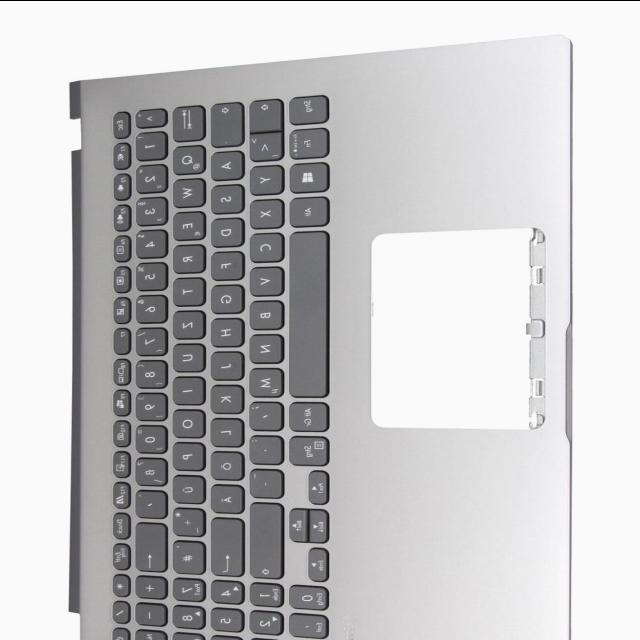0: (132, 423, 164, 451)
1: (132, 129, 164, 159)
2: (133, 162, 165, 191)
3: (133, 195, 165, 224)
4: (133, 228, 165, 256)
5: (133, 261, 165, 289)
6: (133, 293, 165, 322)
7: (133, 326, 164, 354)
8: (132, 358, 164, 387)
9: (132, 391, 164, 419)
a: (207, 149, 241, 179)
accent: (133, 488, 165, 516)
ae: (207, 482, 242, 512)
alt-left: (287, 195, 327, 226)
altgr-right: (286, 400, 326, 430)
b: (246, 299, 281, 329)
c: (246, 230, 281, 261)
caret: (132, 107, 164, 127)
comma: (246, 399, 280, 429)
d: (207, 216, 242, 246)
del: (132, 520, 165, 570)
e: (170, 210, 203, 239)
enter: (207, 515, 243, 575)
f: (207, 249, 242, 278)
g: (207, 282, 242, 312)
h: (207, 316, 242, 346)
hash: (169, 539, 203, 573)
i: (170, 375, 202, 403)
j: (206, 349, 242, 379)
k: (206, 382, 241, 412)
keyboard: (90, 84, 340, 640)
l: (206, 416, 241, 445)
less: (246, 130, 281, 160)
m: (246, 366, 282, 396)
minus: (247, 467, 281, 497)
n: (246, 332, 281, 363)
o: (170, 407, 203, 436)
oe: (207, 450, 241, 479)
p: (170, 441, 202, 469)
plus: (169, 506, 203, 535)
point: (247, 433, 281, 463)
q: (169, 143, 203, 173)
r: (170, 243, 202, 272)
s: (208, 182, 242, 212)
shift-left: (246, 96, 281, 130)
shift-lock: (207, 100, 242, 146)
shift-right: (246, 500, 282, 576)
space: (285, 230, 327, 397)
ss: (132, 456, 164, 484)
strg-left: (286, 92, 326, 123)
strg-right: (287, 433, 327, 465)
t: (169, 276, 203, 304)
tab: (169, 104, 203, 140)
u: (169, 341, 203, 371)
ue: (170, 473, 203, 501)
v: (246, 264, 282, 294)
w: (169, 176, 203, 206)
x: (245, 197, 281, 227)
y: (246, 163, 282, 193)
z: (170, 308, 203, 338)
